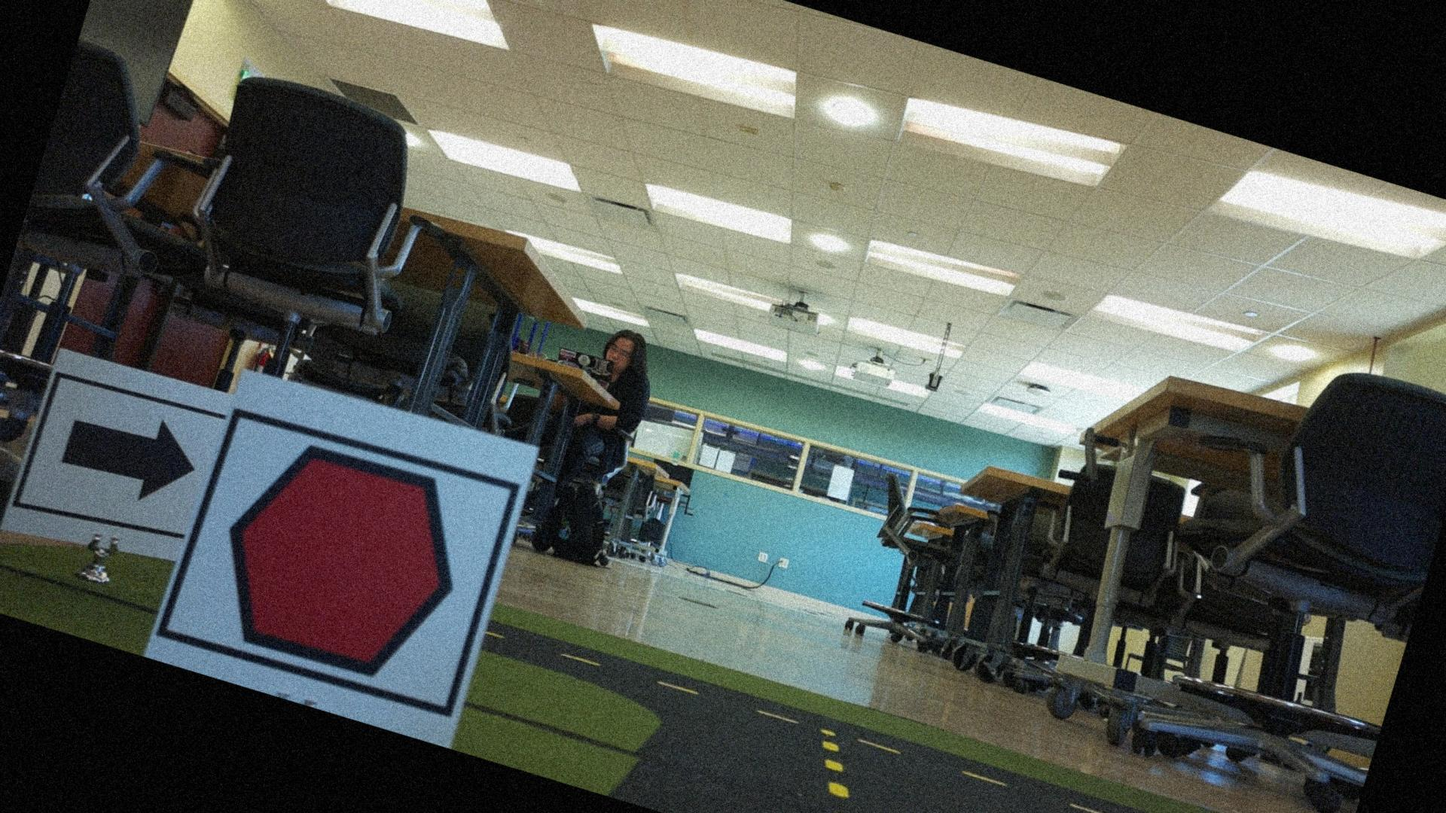stop: (185, 413, 498, 709)
turnright: (23, 379, 221, 538)
yellowline: (795, 740, 914, 812)
